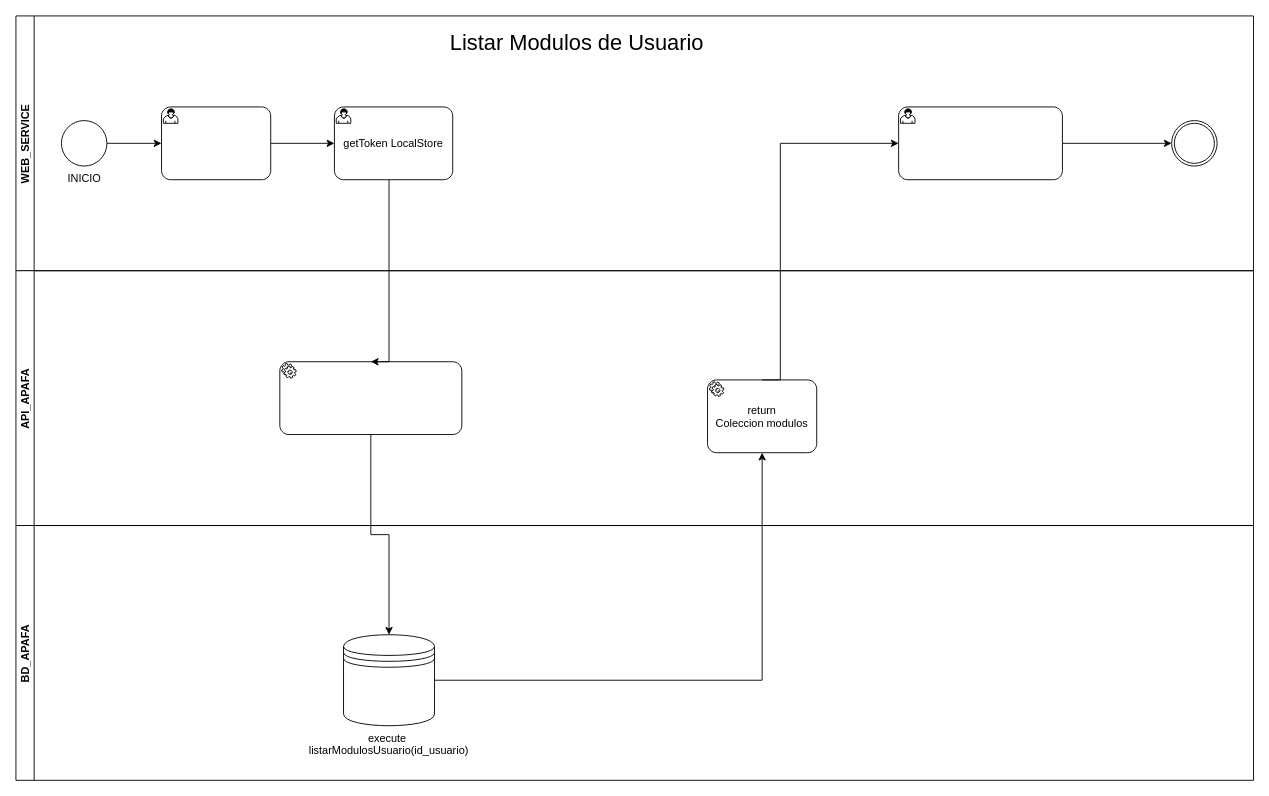
Some shapes in this 1269 by 796 pixel diagram are drawn without their labels. Here are the shapes that lost their labels. From the top down, the centre of each, then its label:
At (216,143): "TemplateWeb User".
At (980,143): "TemplateWeb Lista Modulos, Rutas".
At (1194,143): "FIN".
At (370,398): "user = await auth.getUser()".
